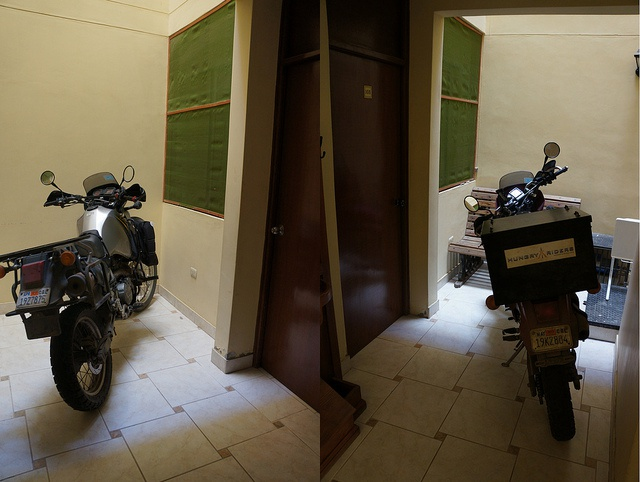non-vehicle: (7, 175, 161, 404), (477, 143, 592, 439)
